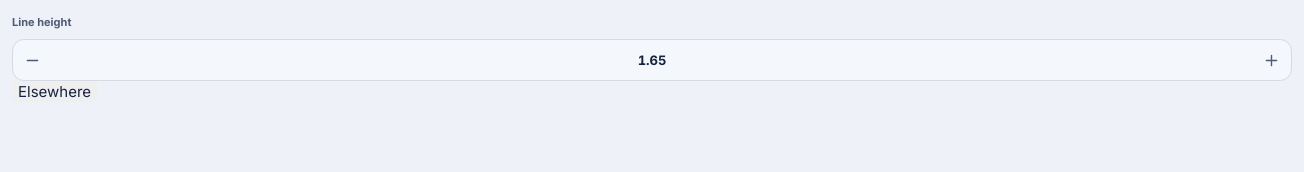
Test: Stepper › applies a typed value on Enter, rounded to the step, and shows the applied value
Click the field labelled "Line height".
click(652, 60)  # box [638,50,666,71]
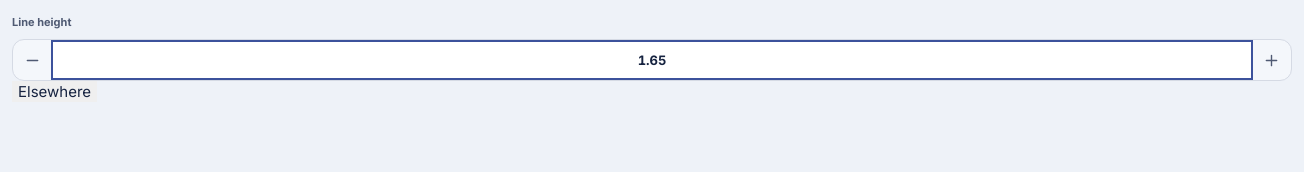
Focusing selects the value, so typing replaces it.
Type keys "1.83{Enter}"
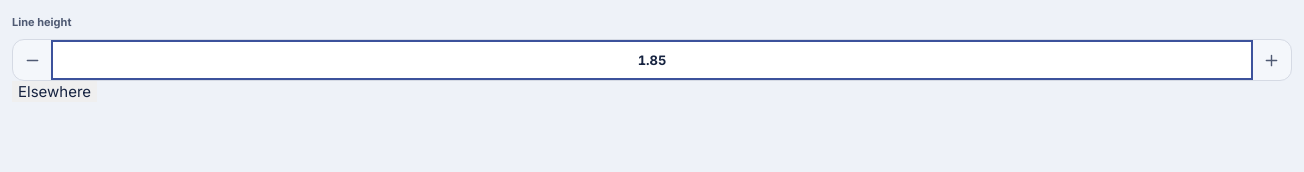
Expected: the field labelled "Line height" holds "1.85"
Clear the field labelled "Line height" at (652, 60), box [638,50,666,71]
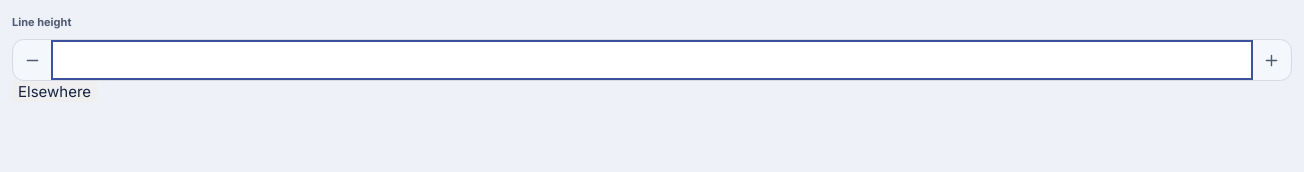
Type keys "2,1{Enter}"
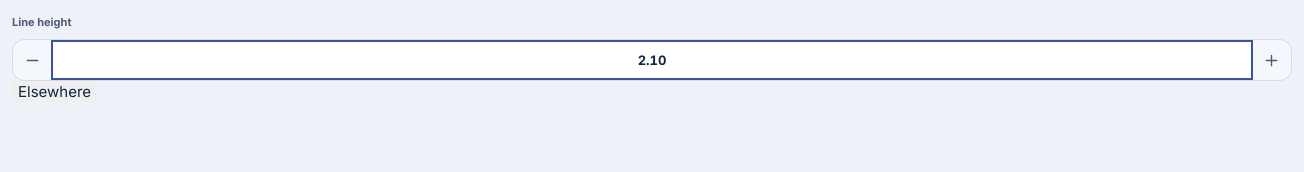
Expected: the field labelled "Line height" holds "2.10", [638,50,666,71]
